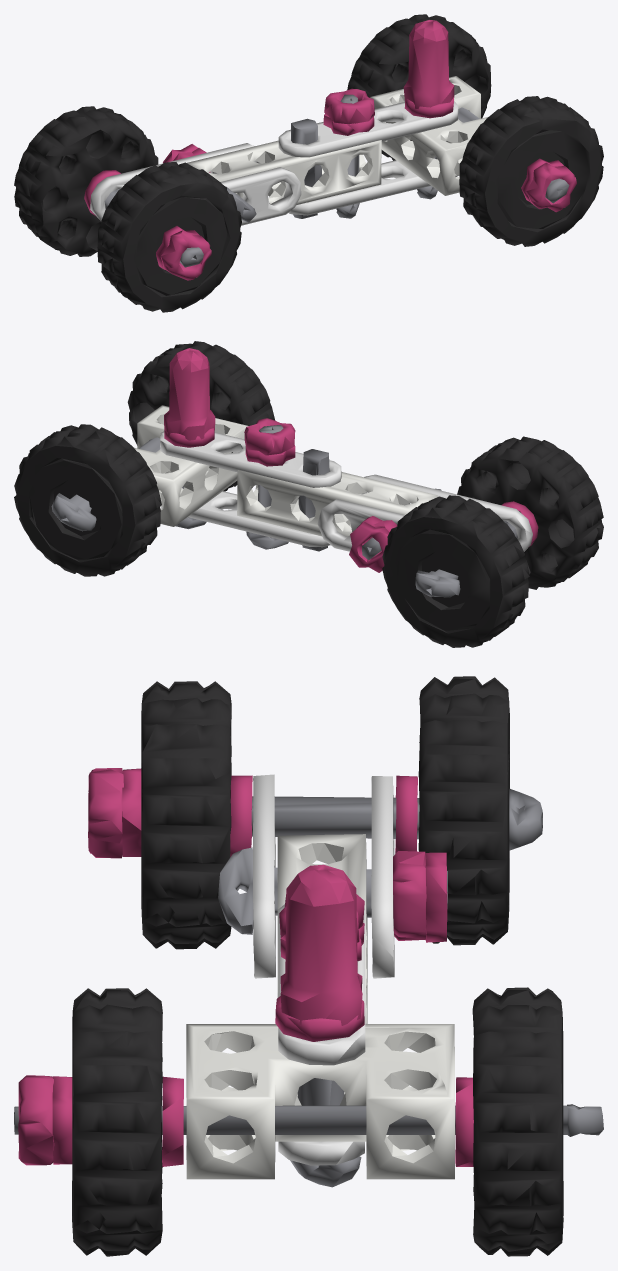
Rendered from state10.fbx.
3 renders of one model, top to bottom at view 1: azimuth 30°, elevation 25°; view 2: azimuth 150°, elevation 25°; view 3: azimuth 270°, elevation 25°, orthographic. The views are drawn at different scales.
Visible parts, largest first — view 1: Pin SPP INR LCT BDR BU01.00x00.50 - SPN-PIN-0094 (stemfie.or; view 2: Pin SPP INR LCT BDR BU01.00x00.50 - SPN-PIN-0094 (stemfie.or; view 3: Pin SPP INR LCT BDR BU01.00x00.50 - SPN-PIN-0094 (stemfie.or.
Boxes of the visible parts, <box> form: Pin SPP INR LCT BDR BU01.00x00.50 - SPN-PIN-0094 (stemfie.or: <box>14,14,603,312</box>; Pin SPP INR LCT BDR BU01.00x00.50 - SPN-PIN-0094 (stemfie.or: <box>14,341,603,647</box>; Pin SPP INR LCT BDR BU01.00x00.50 - SPN-PIN-0094 (stemfie.or: <box>14,676,603,1256</box>.
Size of the model in its own units: 13746 by 5152 by 8199.
